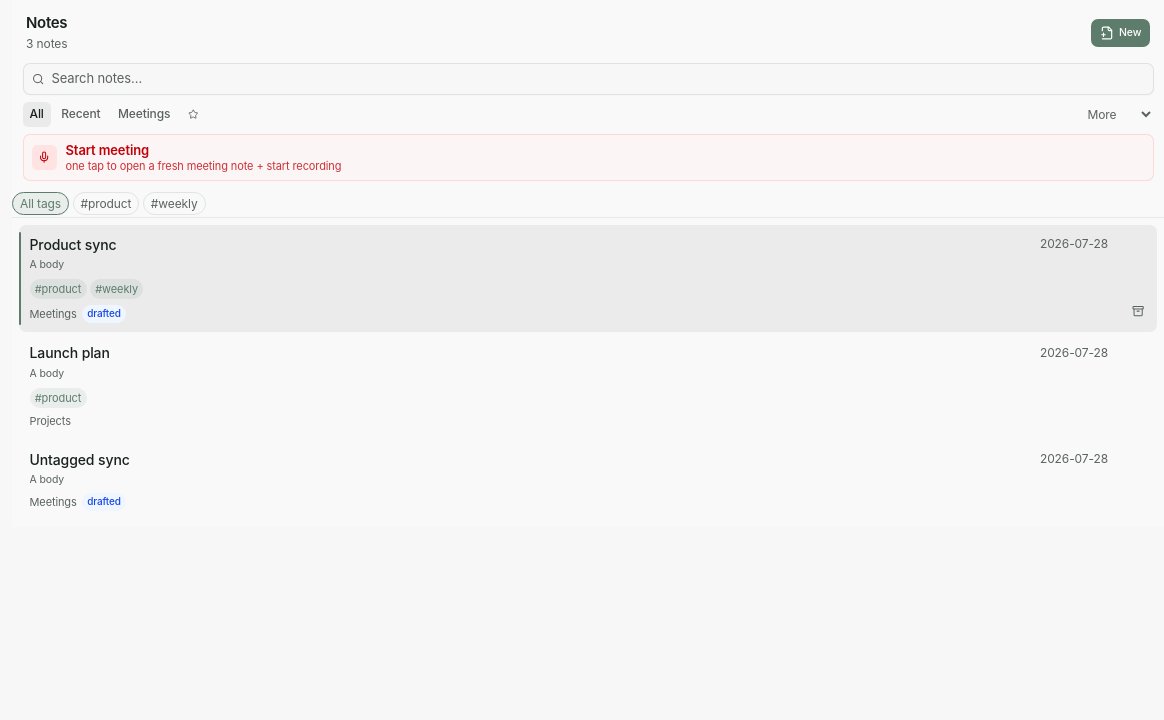
Test: NoteList creation and selection flow › shows tag chips and filters notes without replacing the current view filter
Check: the 1st text "#product" is shown, box [30,280,86,300]
Click the tab with test id "notes-view-meeting": (144,114) [111,102,177,126]
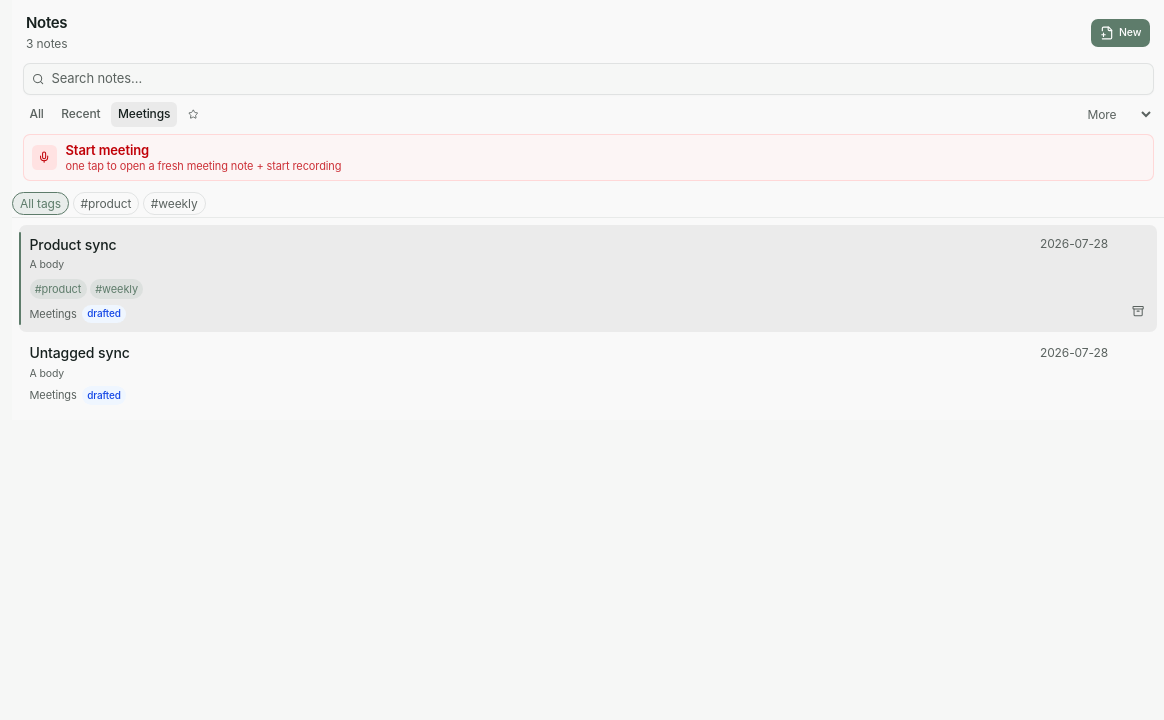
Click the button with test id "notes-tag-filter-product": (106,204) [72,192,139,216]
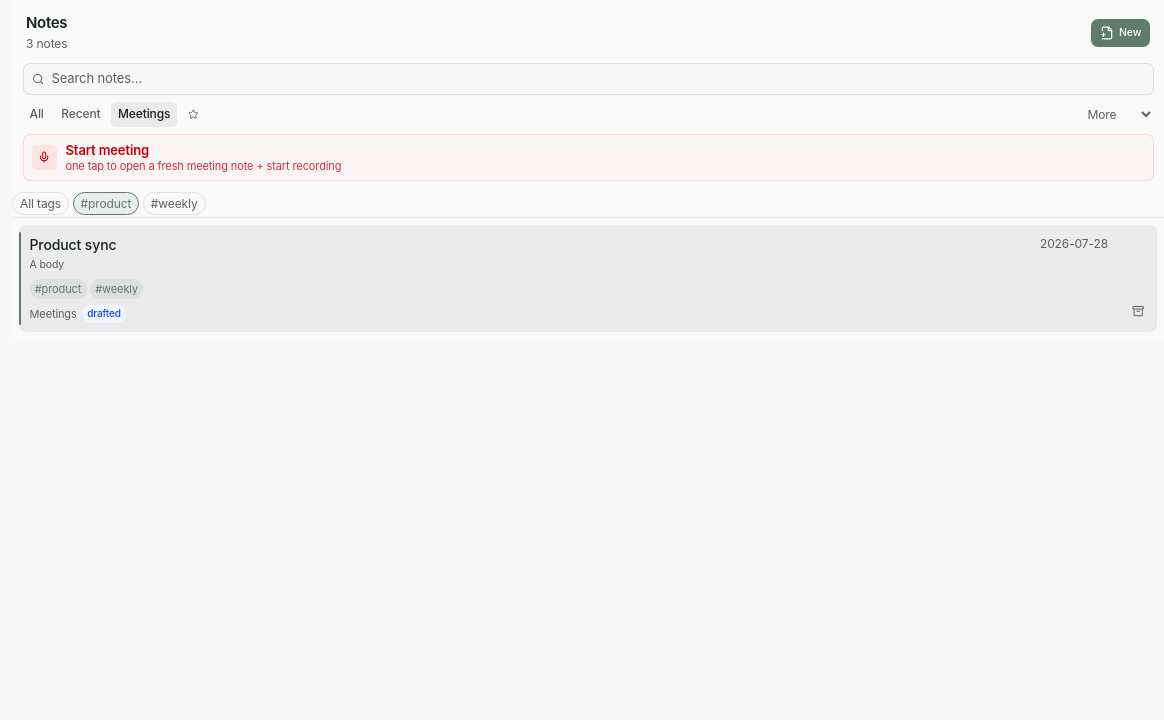
Check: the text "Product sync" is shown, box [30,234,116,255]
Check: the button "Untagged sync" is gone
Click the button "All tags": (40,204) [12,192,69,216]
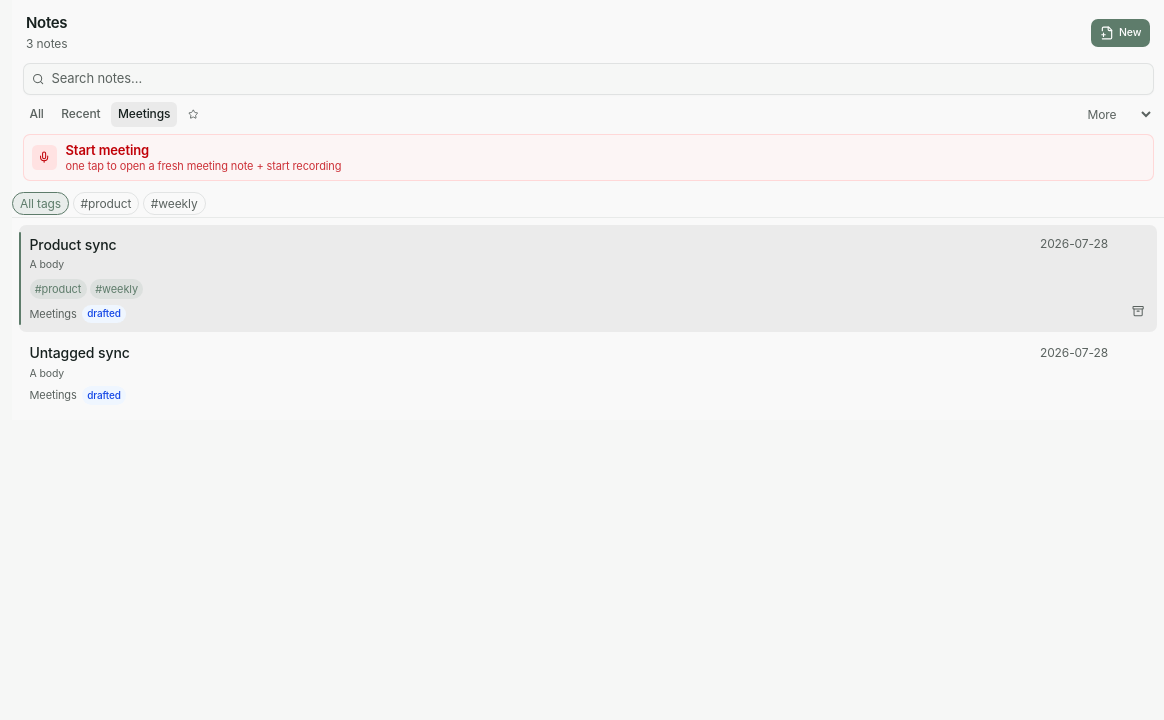
Check: the text "Untagged sync" is shown, box [30,342,130,364]
